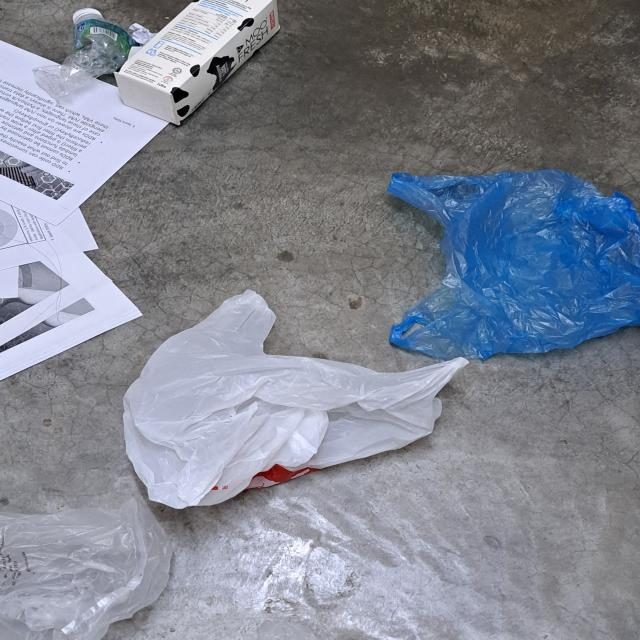drink carton: (112, 0, 283, 127)
paper: (0, 42, 173, 383)
plastic bag: (122, 290, 471, 510), (388, 170, 640, 364)
plastic bottle: (30, 17, 136, 106)
plastic bottle cap: (72, 8, 102, 24)
